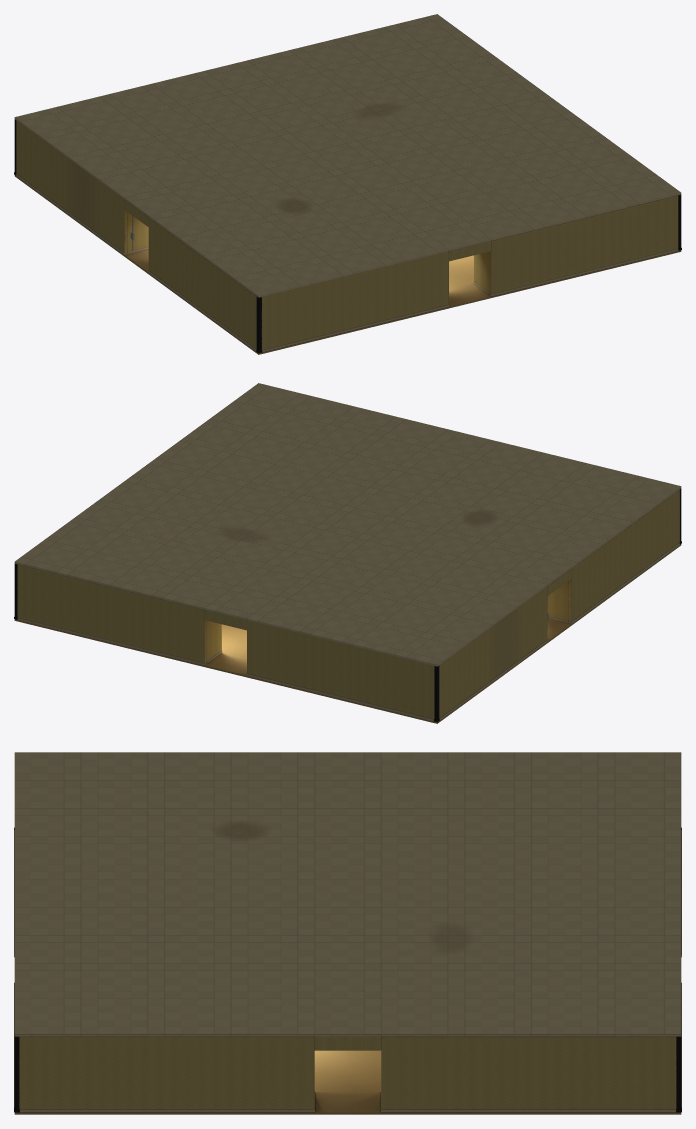
3 views of the same model, one above another, from view 1: azimuth 30°, elevation 25°; view 2: azimuth 150°, elevation 25°; view 3: azimuth 270°, elevation 25° (orthographic). The views are drawn at different scales.
Visible parts, largest first — view 1: Ceiling, Walls, Floor, Pillars; view 2: Ceiling, Walls, Floor, Pillars; view 3: Ceiling, Walls, Floor, Pillars.
Part boxes in pixels (<box>): Ceiling: <box>14,14,681,297</box>; Walls: <box>14,119,681,350</box>; Floor: <box>14,175,681,354</box>; Pillars: <box>14,172,681,353</box>; Ceiling: <box>14,383,681,666</box>; Walls: <box>14,488,681,719</box>; Floor: <box>14,544,681,723</box>; Pillars: <box>14,541,681,722</box>; Ceiling: <box>14,752,681,1036</box>; Walls: <box>14,1036,681,1109</box>; Floor: <box>14,1050,681,1114</box>; Pillars: <box>14,827,681,1112</box>.
Size of what is drawn, in the model's own units: 24.04 by 3.2 by 24.04.
Materials: 7 (5 with a texture image).
